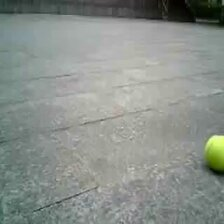tennis: (206, 136, 224, 169)
